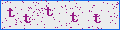t: (44, 7, 53, 16), (7, 8, 15, 18), (23, 14, 31, 24), (70, 12, 78, 22), (93, 14, 101, 23)
